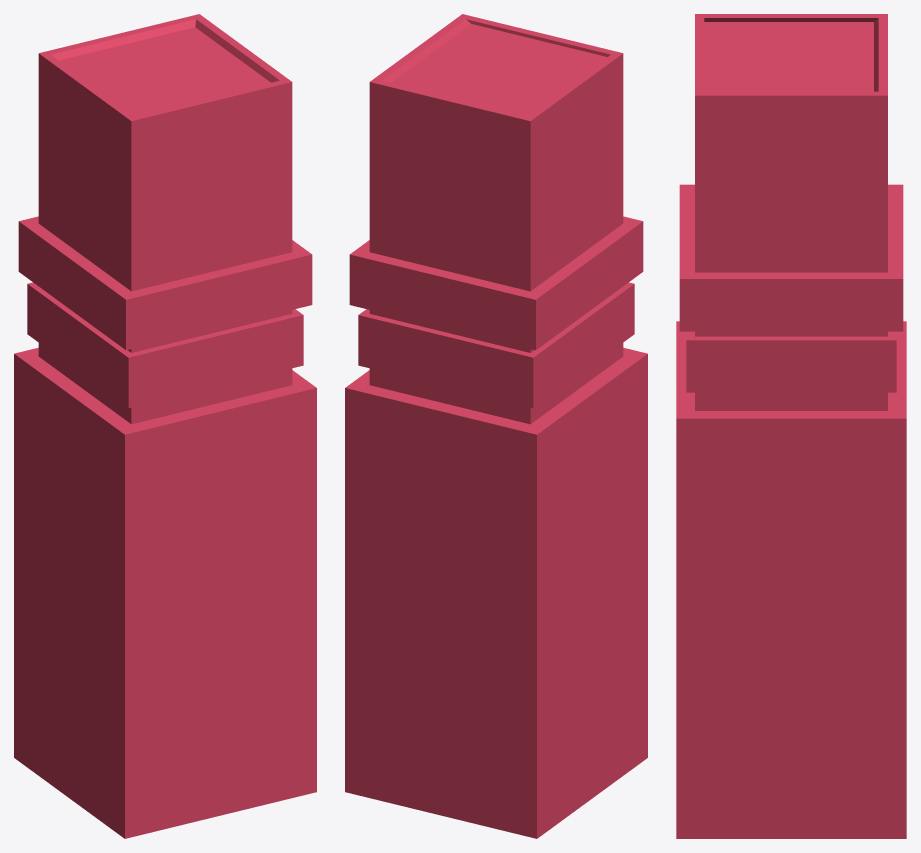
File: Building8_red.fbx
3 views of the same model, side by side, from view 1: azimuth 30°, elevation 25°; view 2: azimuth 150°, elevation 25°; view 3: azimuth 270°, elevation 25° (orthographic). The views are drawn at different scales.
Parts seen in each view (by area): view 1: Building 8; view 2: Building 8; view 3: Building 8.
Boxes of the visible parts, bbox=[...] form: Building 8: bbox=[14, 14, 316, 838]; Building 8: bbox=[345, 14, 647, 838]; Building 8: bbox=[676, 14, 906, 838].
Bounding box in the file's own units: 1195 × 4206 × 1195.
1 material, 1 textured.
